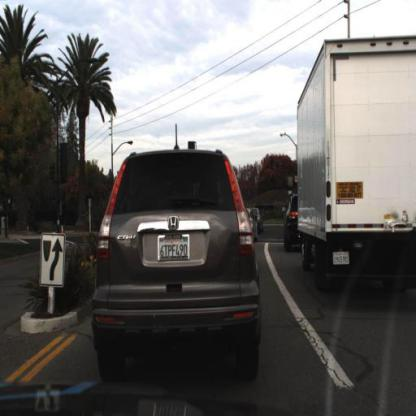car: (73, 139, 269, 386), (279, 176, 311, 260)
truck: (297, 22, 416, 302)
